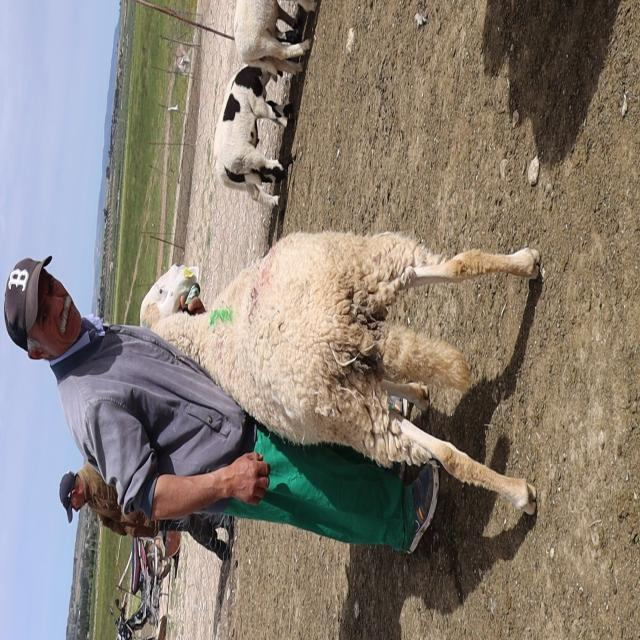Score_1: (140, 232, 540, 514)
